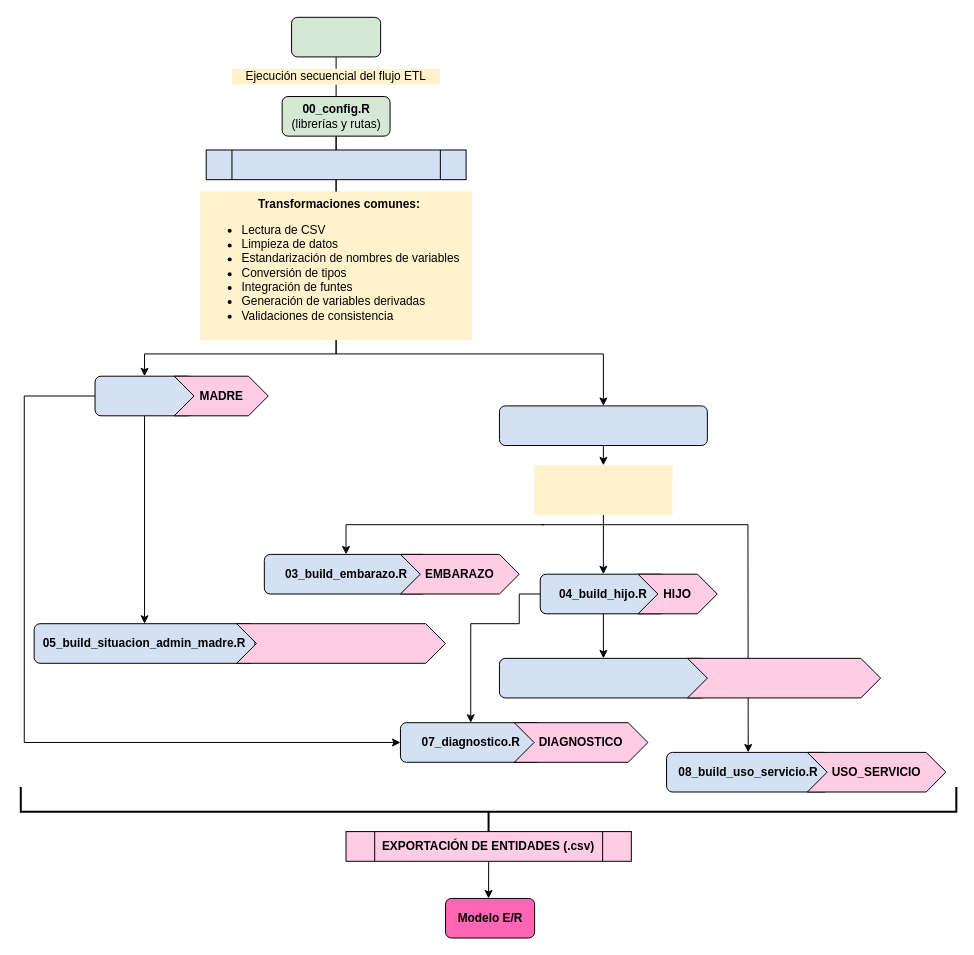
The diagram is 974 pixels wide and 955 high, and some of its shapes have lost their labels. Here are the shapes that lost their labels. From the top down, the box of each, then its label:
(291, 16, 381, 57): Main.R
(205, 149, 466, 180): CONSTRUCCIÓN DE ENTIDADES
(94, 375, 194, 416): 01_madre.R
(498, 405, 707, 446): 02_reconstruccion_embarazos.R
(534, 465, 672, 514): Genera tablas auxiliares: embarazos_aux y partos_aux
(236, 623, 446, 663): SITUACION_ADMIN_MADRE
(498, 657, 707, 698): 06_build_situacion_admin_hijo.R
(687, 657, 881, 698): SITUACION_ADMIN_HIJO
